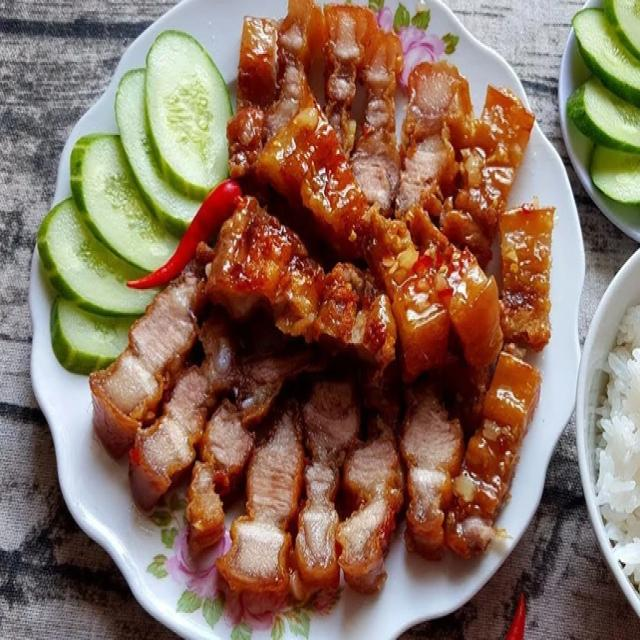com: (595, 305, 639, 591)
dua leo: (115, 68, 199, 246), (145, 30, 231, 202), (71, 135, 178, 273), (37, 199, 155, 314), (51, 297, 138, 375), (573, 8, 639, 108), (567, 78, 639, 152), (590, 145, 639, 203), (603, 0, 639, 59)
thit chien: (205, 199, 396, 368), (255, 91, 418, 286), (131, 321, 239, 508), (445, 349, 538, 557), (91, 276, 198, 453), (185, 378, 275, 553), (218, 413, 303, 597), (443, 86, 533, 257), (411, 211, 502, 367), (369, 205, 450, 378), (297, 381, 359, 588), (396, 60, 471, 210), (400, 384, 464, 556), (338, 429, 403, 589), (352, 27, 401, 213), (500, 205, 553, 349)
